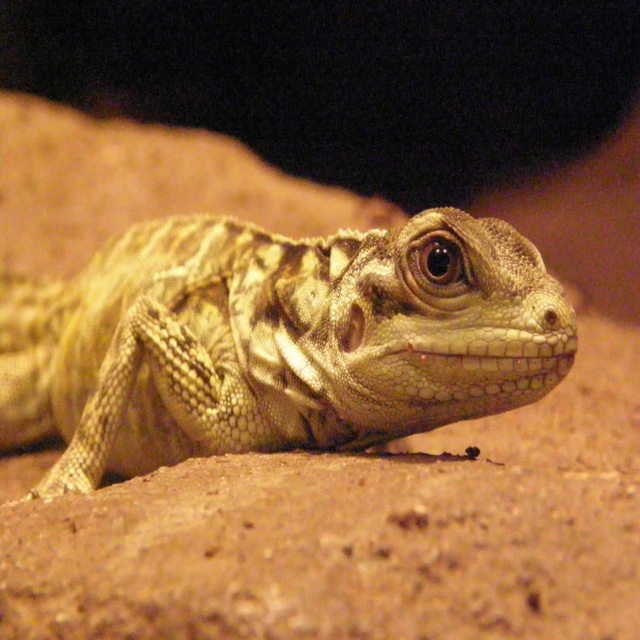Lizard: (0, 195, 569, 503)
